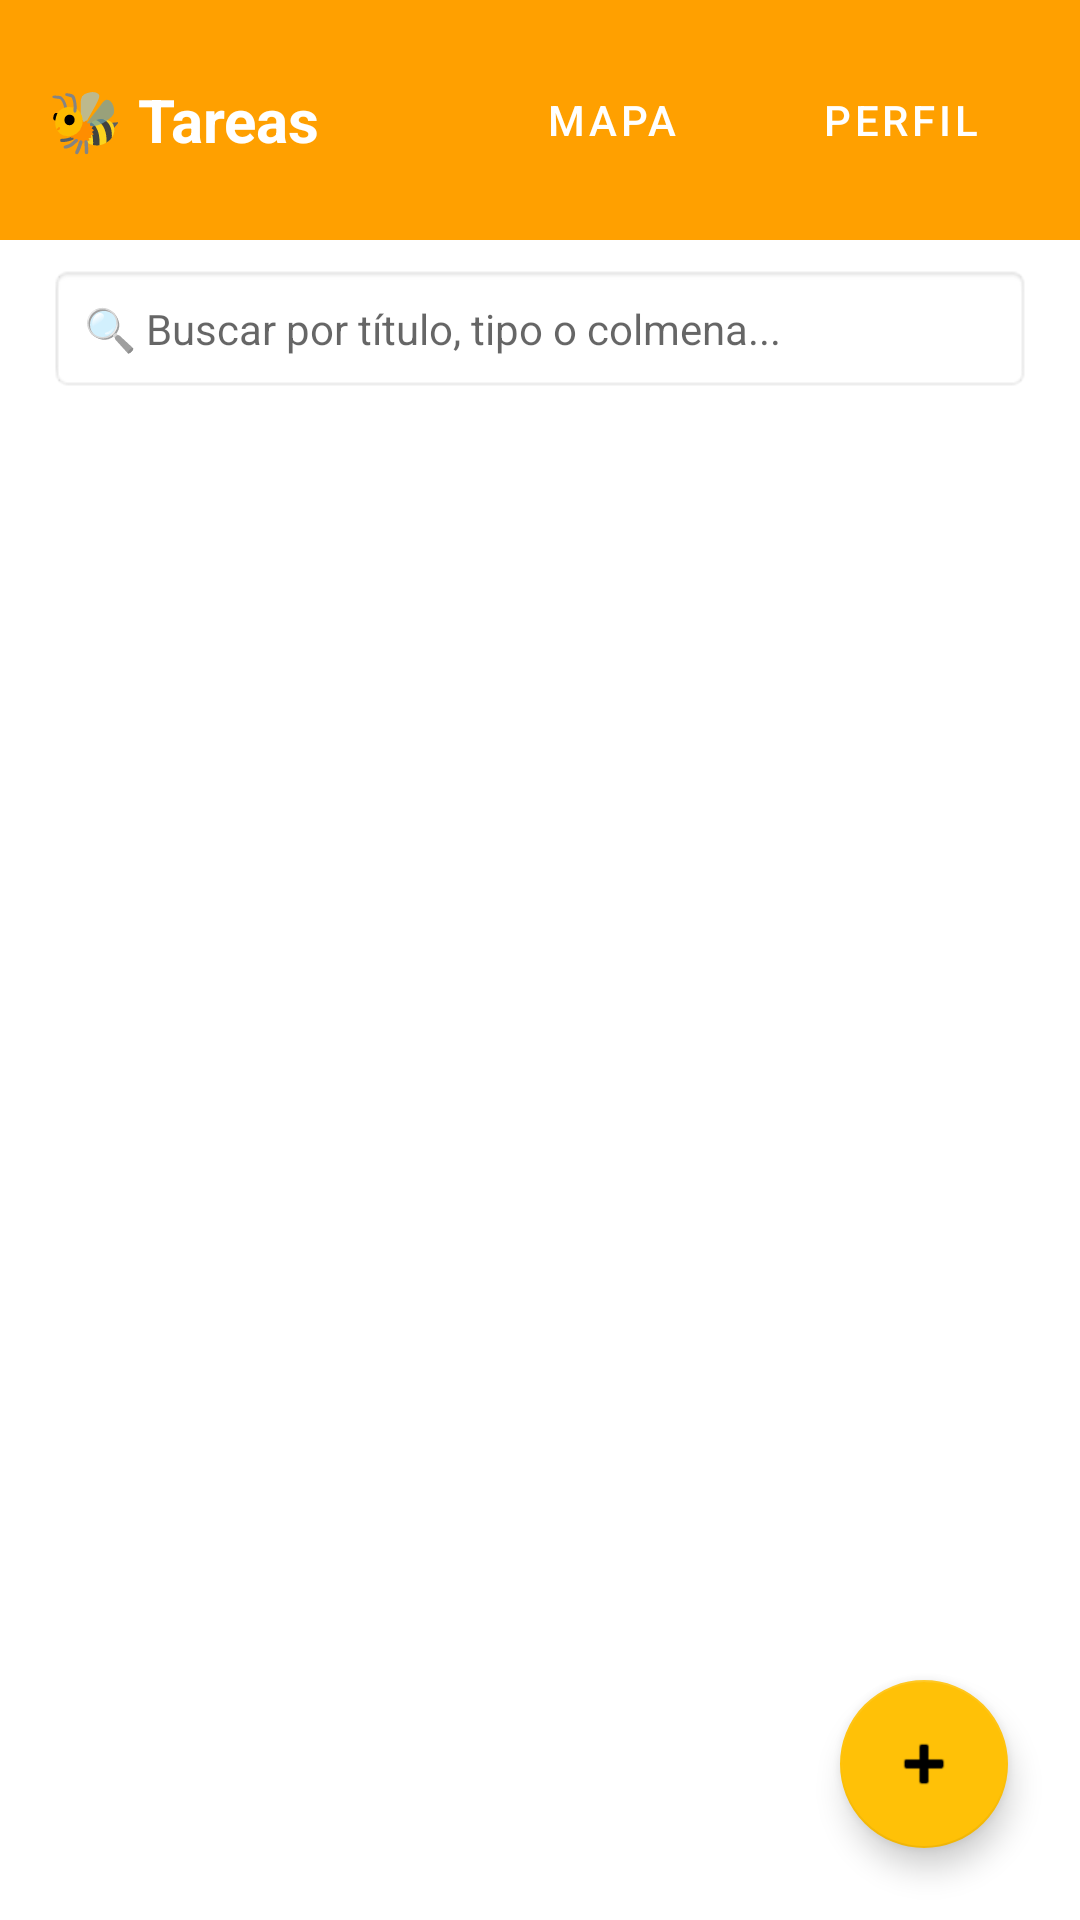

Screen size 1080*1920. Icon name, then its center in pixels as [x,y]:
Agregar tarea: [924,1764]
